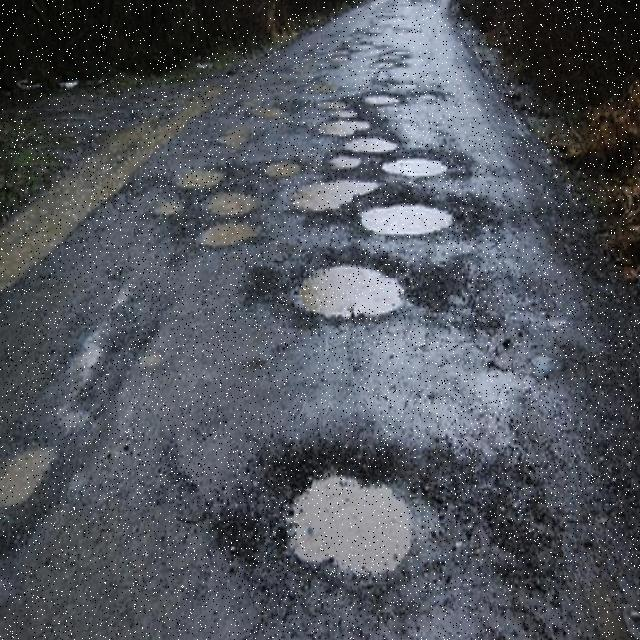pothole: (290, 477, 442, 577), (322, 118, 469, 172), (176, 168, 259, 250), (299, 268, 404, 318), (0, 448, 54, 510), (289, 178, 377, 213), (361, 206, 453, 238), (345, 84, 451, 107), (263, 157, 306, 180), (375, 52, 410, 80)
